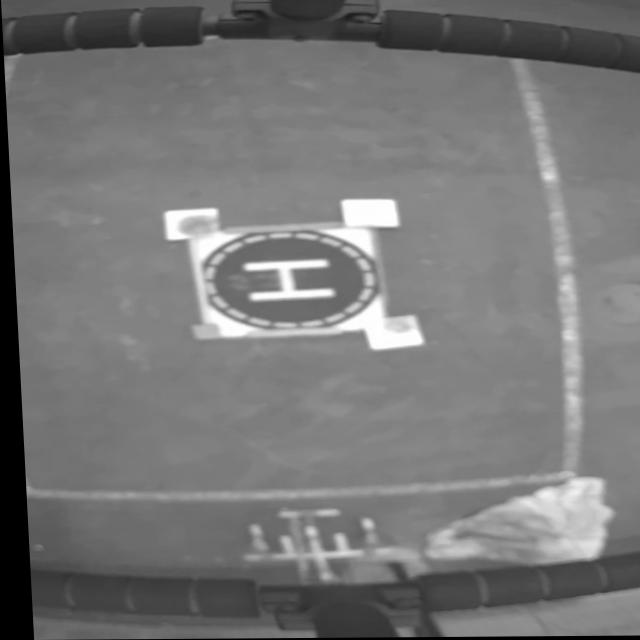Helipad: (239, 258, 329, 303)
